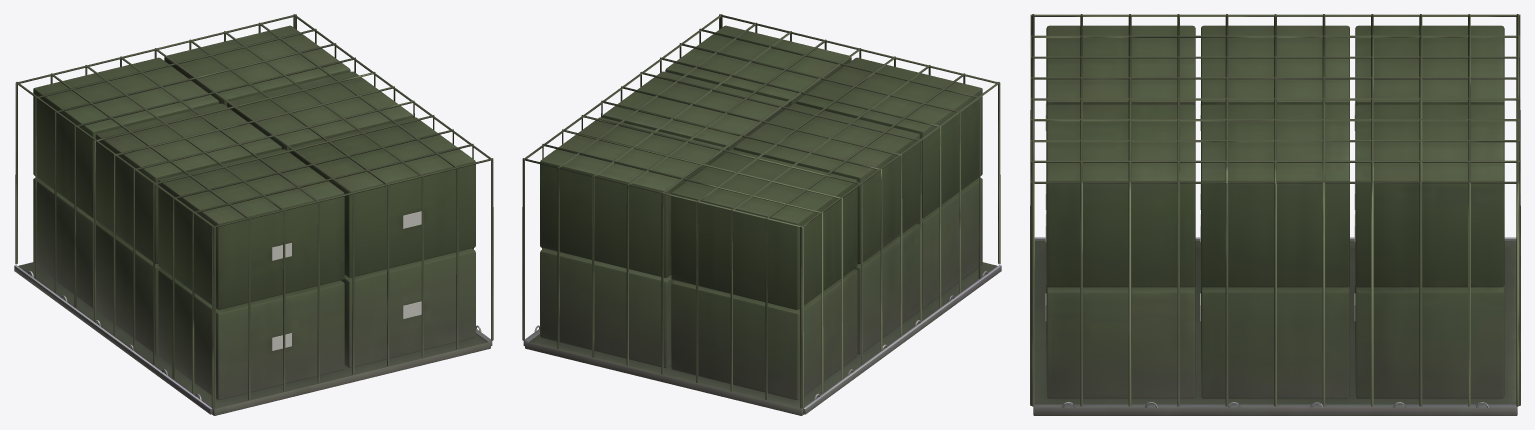
File: mex-26-stowed.glb
3 views of the same model, side by side, from view 1: azimuth 30°, elevation 25°; view 2: azimuth 150°, elevation 25°; view 3: azimuth 270°, elevation 25° (orthographic). The views are drawn at different scales.
Visible parts, largest first — view 1: MEX26_packed; view 2: MEX26_packed; view 3: MEX26_packed.
Part boxes in pixels (box(x1,y1,x2,y2)): MEX26_packed: box(14, 14, 493, 415); MEX26_packed: box(522, 14, 1001, 415); MEX26_packed: box(1030, 14, 1520, 415).
Bounding box in the file's own units: 2.28 × 1.47 × 2.78.
6 materials, 5 textured.
